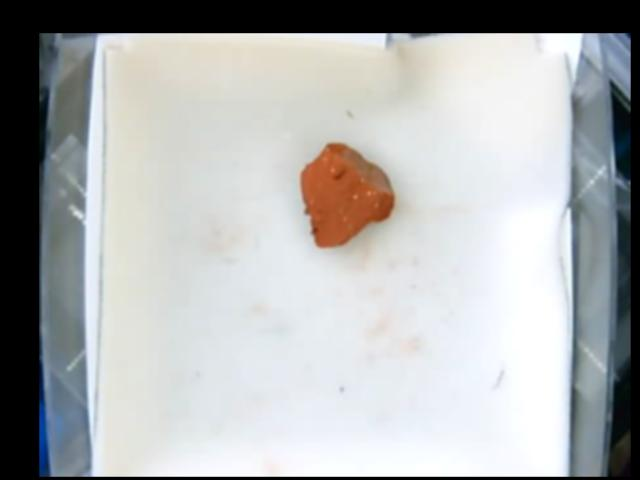Brisk: (300, 140, 395, 246)
